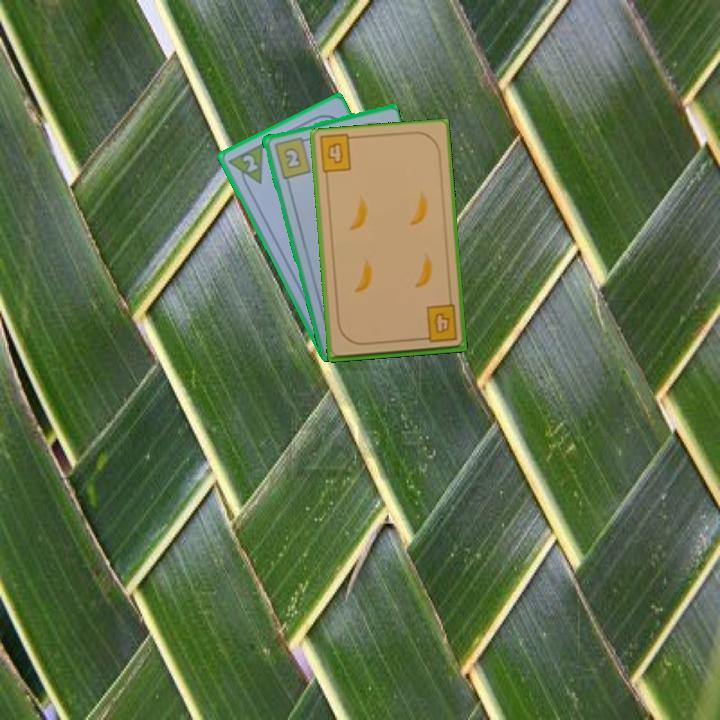2b: (270, 133, 313, 181)
2p: (224, 140, 266, 192)
4b: (416, 302, 460, 346), (323, 138, 346, 166)
